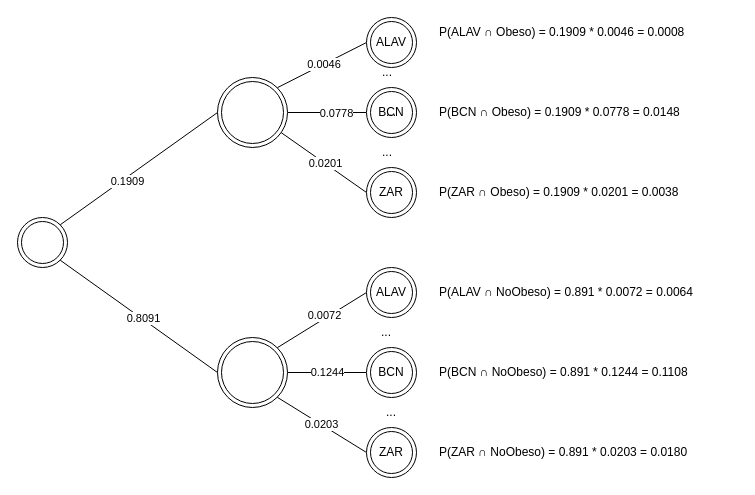
This 755x495 diagram has some shape labels left out. The centre of each missing label's shape, as x and y in pixels:
No Obeso: (252,372)
Obeso: (252,112)
